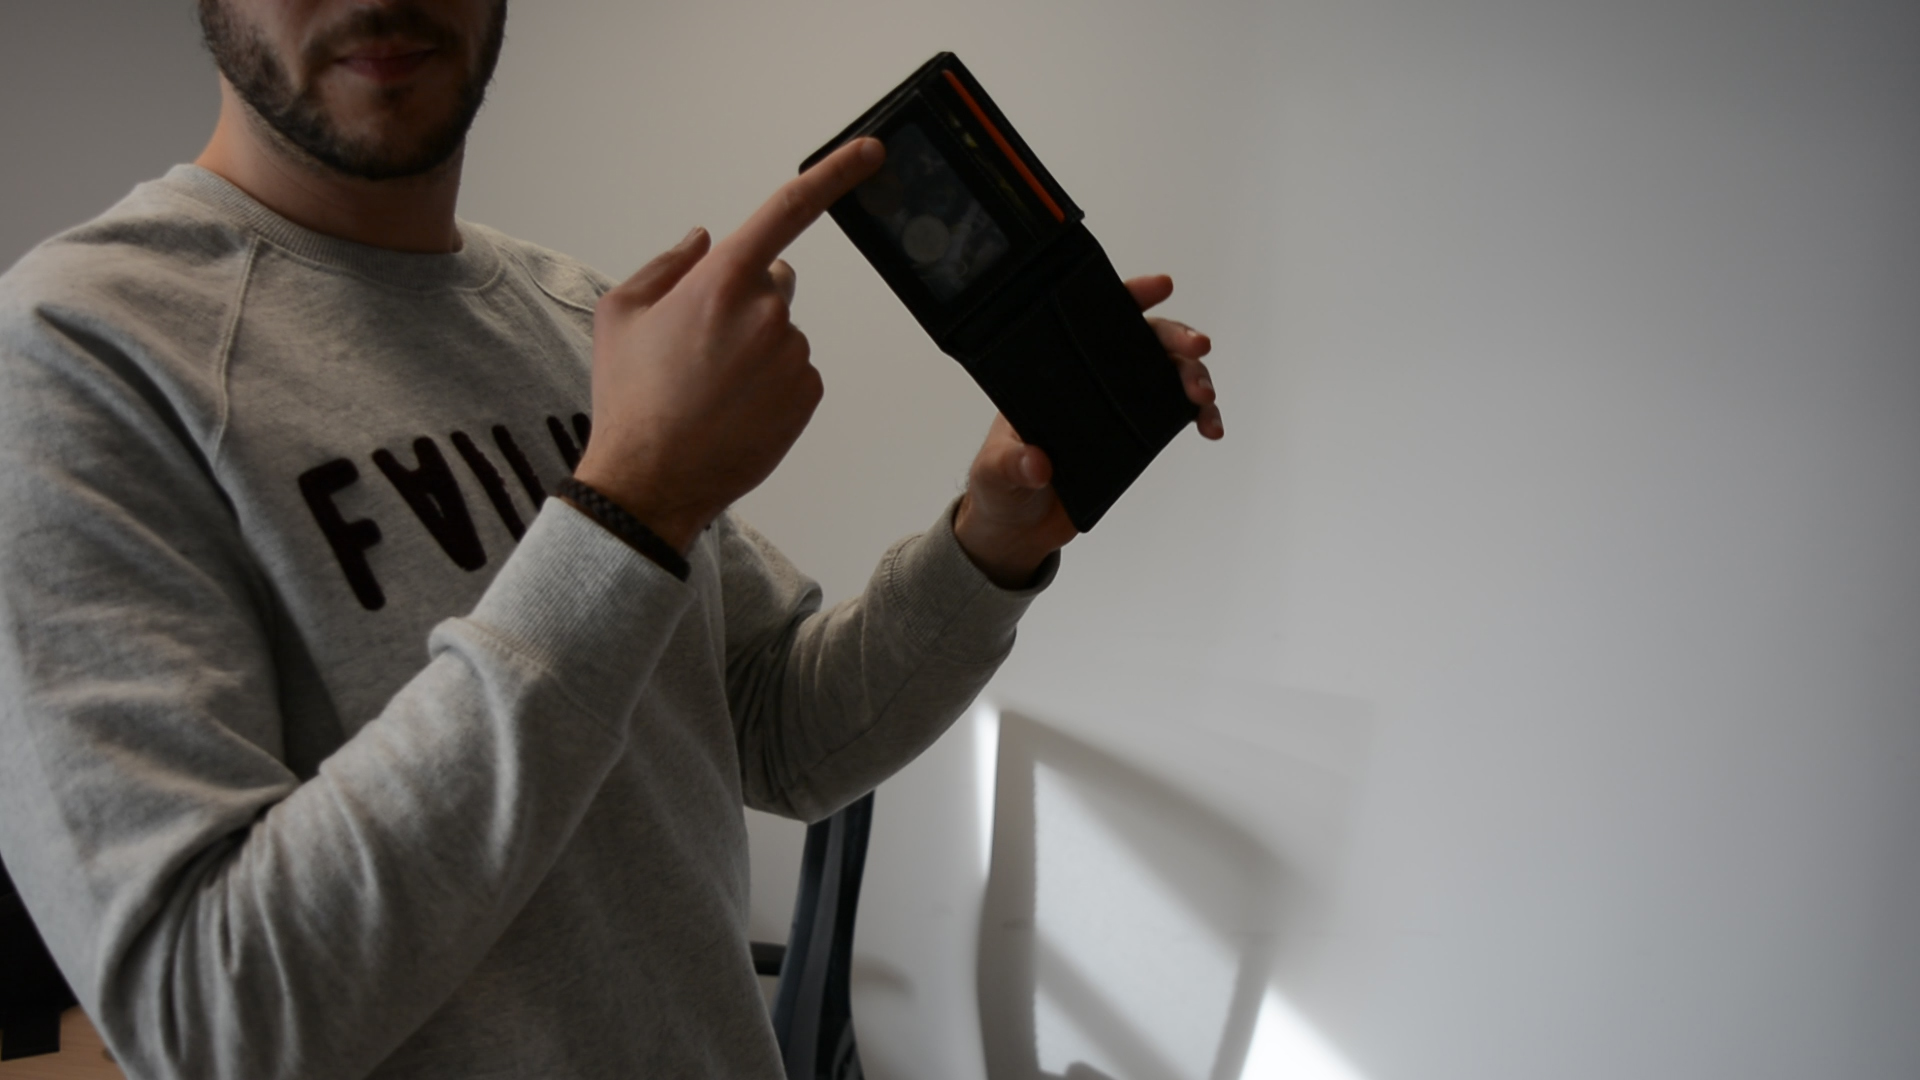monedero: (795, 49, 1211, 535)
